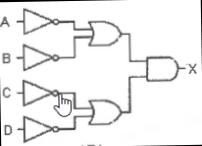and: (144, 53, 182, 84)
nor: (86, 18, 125, 48), (86, 97, 125, 127)
not: (20, 40, 62, 72), (20, 77, 62, 108), (21, 5, 62, 36), (21, 113, 62, 144)
